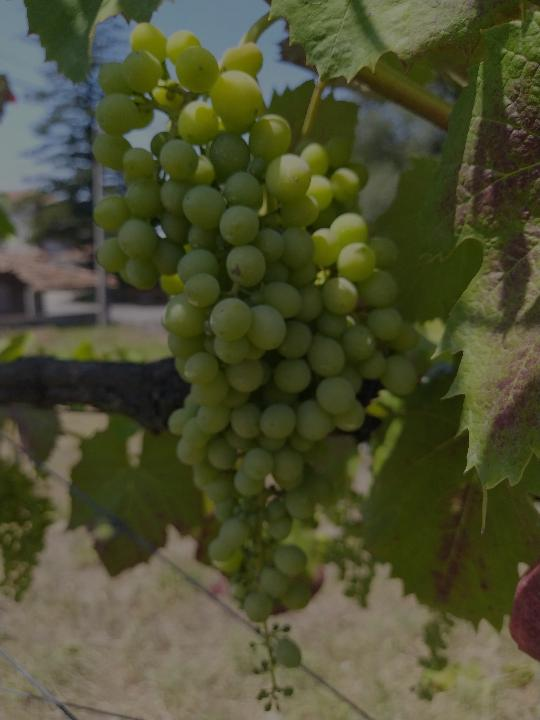grape: (89, 20, 421, 716)
